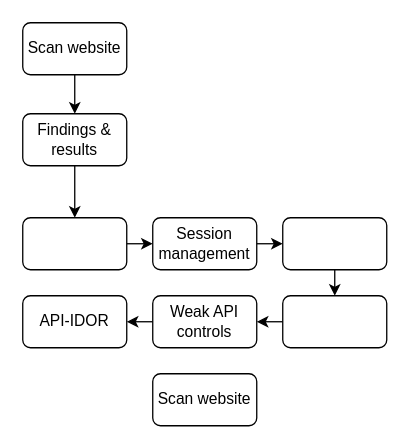
Some shapes in this 410 by 448 pixel diagram are drawn without their labels. Here are the shapes that lost their labels. From the top down, the box of each, then its label:
(21, 216, 127, 270): IDOR check
(281, 216, 387, 270): Forced browsing
(281, 294, 387, 348): Test API
